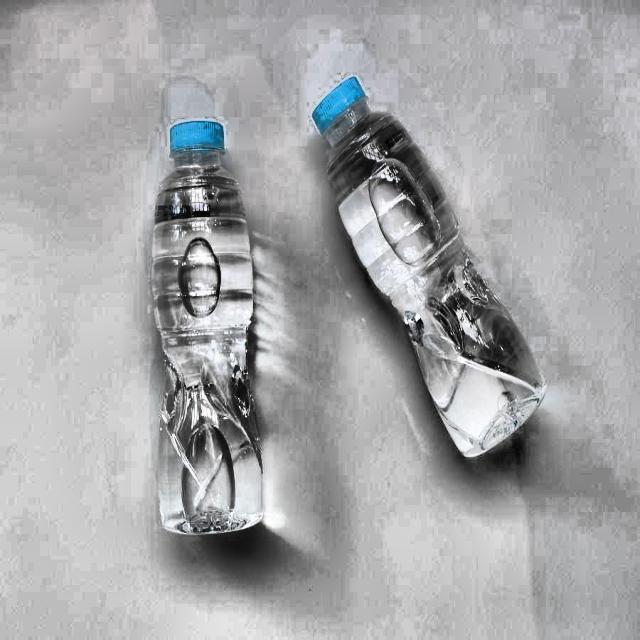Bottles: (294, 65, 558, 466), (128, 111, 268, 567)
